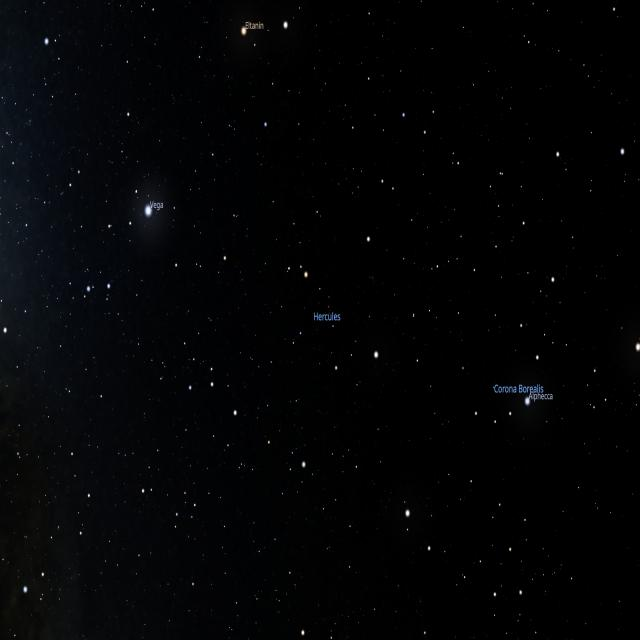Hercules: (181, 108, 465, 556)
